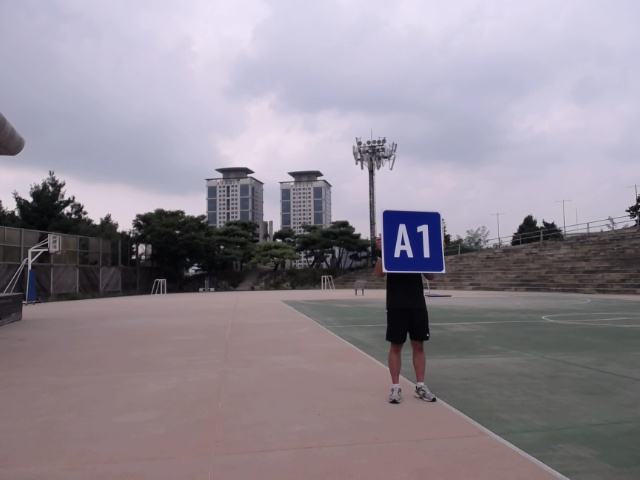delivery_a1: (383, 209, 444, 272)
